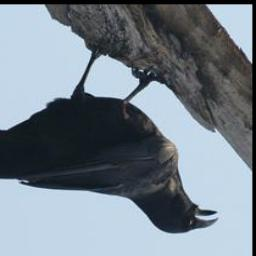Crow: (0, 42, 222, 237)
